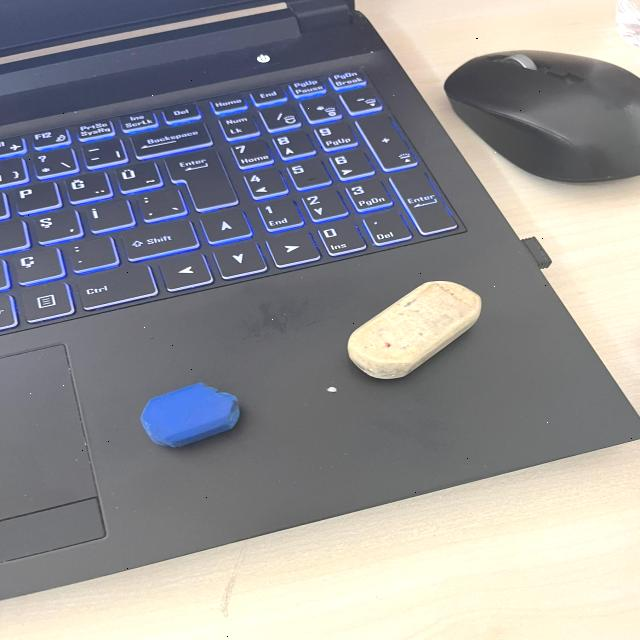eraser: (342, 266, 486, 386), (129, 382, 258, 452)
